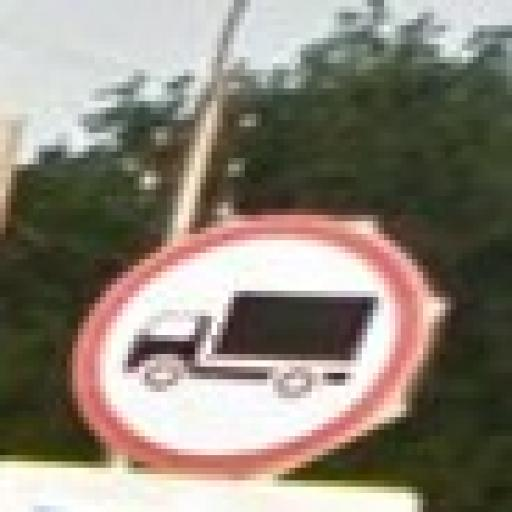traffic_sign: (68, 210, 429, 475)
